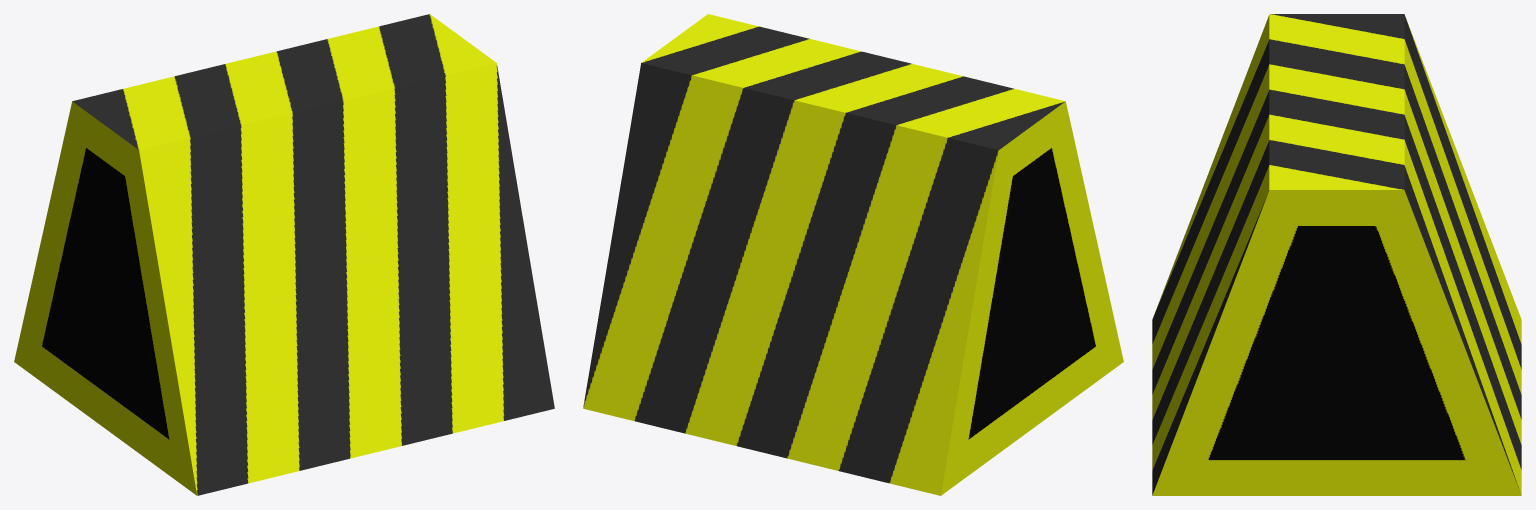
Rendered from warning wall.fbx.
The picture shows the model from 3 angles, left to right: view 1: azimuth 30°, elevation 25°; view 2: azimuth 150°, elevation 25°; view 3: azimuth 270°, elevation 25°; orthographic projection.
Parts seen in each view (by area): view 1: warning wall; view 2: warning wall; view 3: warning wall.
Boxes of the visible parts, x1,y1,x2,y2 form: warning wall: (14,14,554,495); warning wall: (583,14,1123,495); warning wall: (1152,14,1521,495).
Size of the model in its own units: 0.6173 by 0.5 by 0.5473.
1 material, 1 textured.
